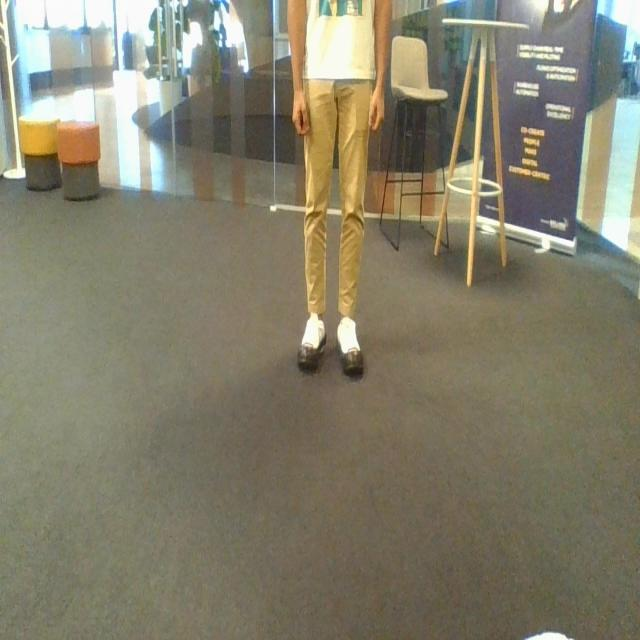shoes: (331, 314, 370, 374), (298, 312, 328, 374)
